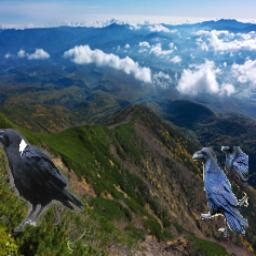Crow: (0, 130, 85, 233), (192, 146, 250, 237)
